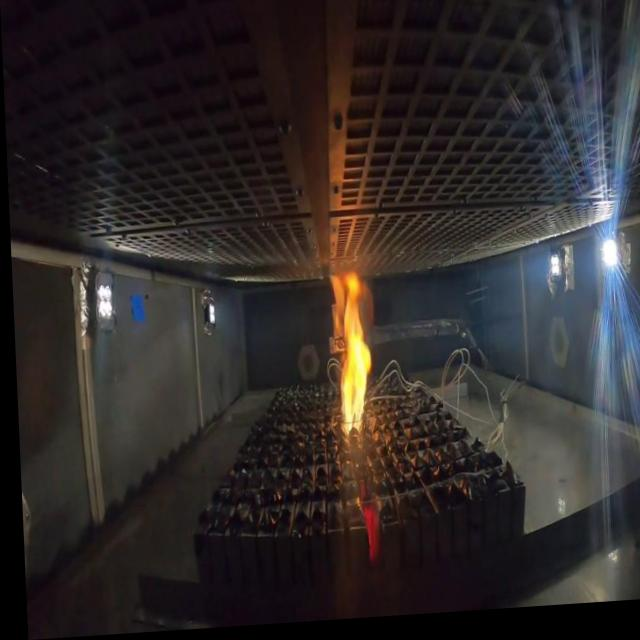fire: (323, 267, 372, 447)
